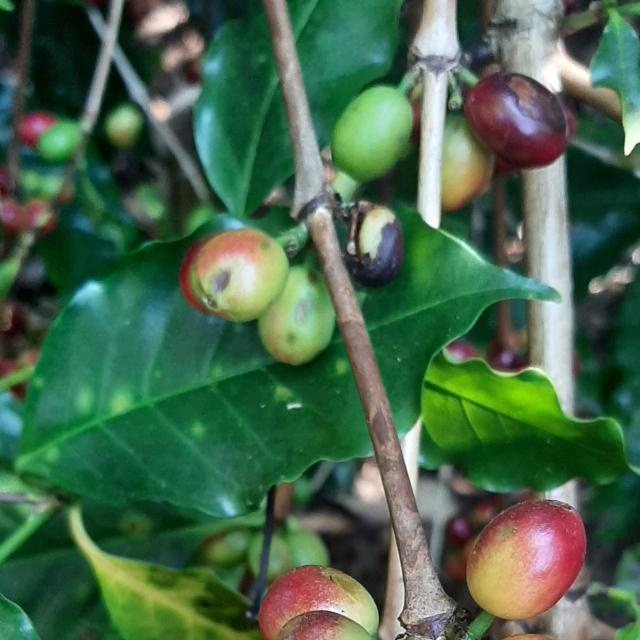green: (331, 85, 413, 181), (258, 267, 335, 366)
red: (465, 73, 570, 168), (345, 201, 403, 286)
yellow: (467, 501, 587, 621), (190, 229, 289, 322), (258, 566, 379, 640), (276, 612, 373, 640)
